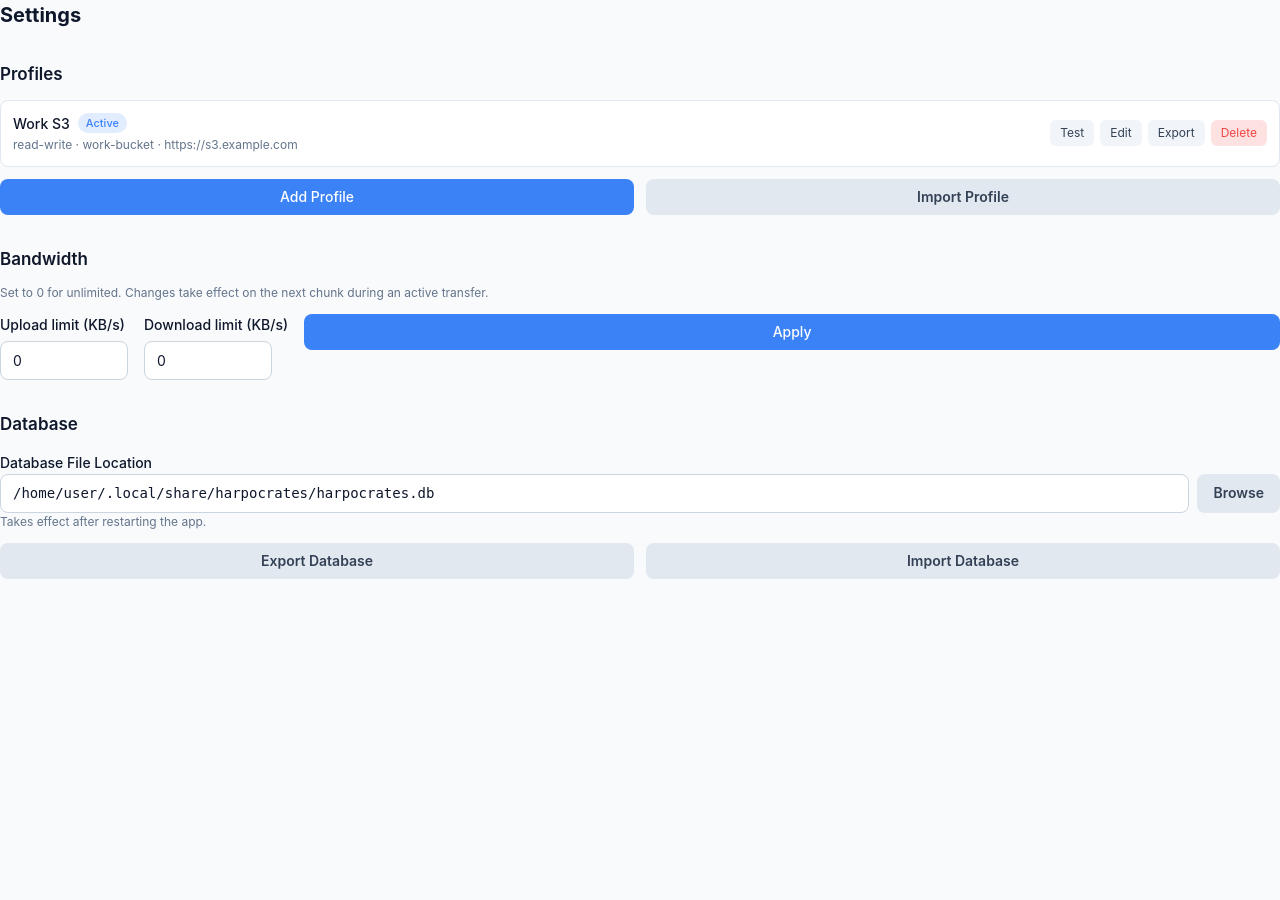
Test: Settings page — delete profile › clicking Delete opens the confirm modal
Expected: the text "Work S3" is shown, [13,114,70,132]
Click the button "Delete" at [1239, 133], box [1211,120,1267,146]
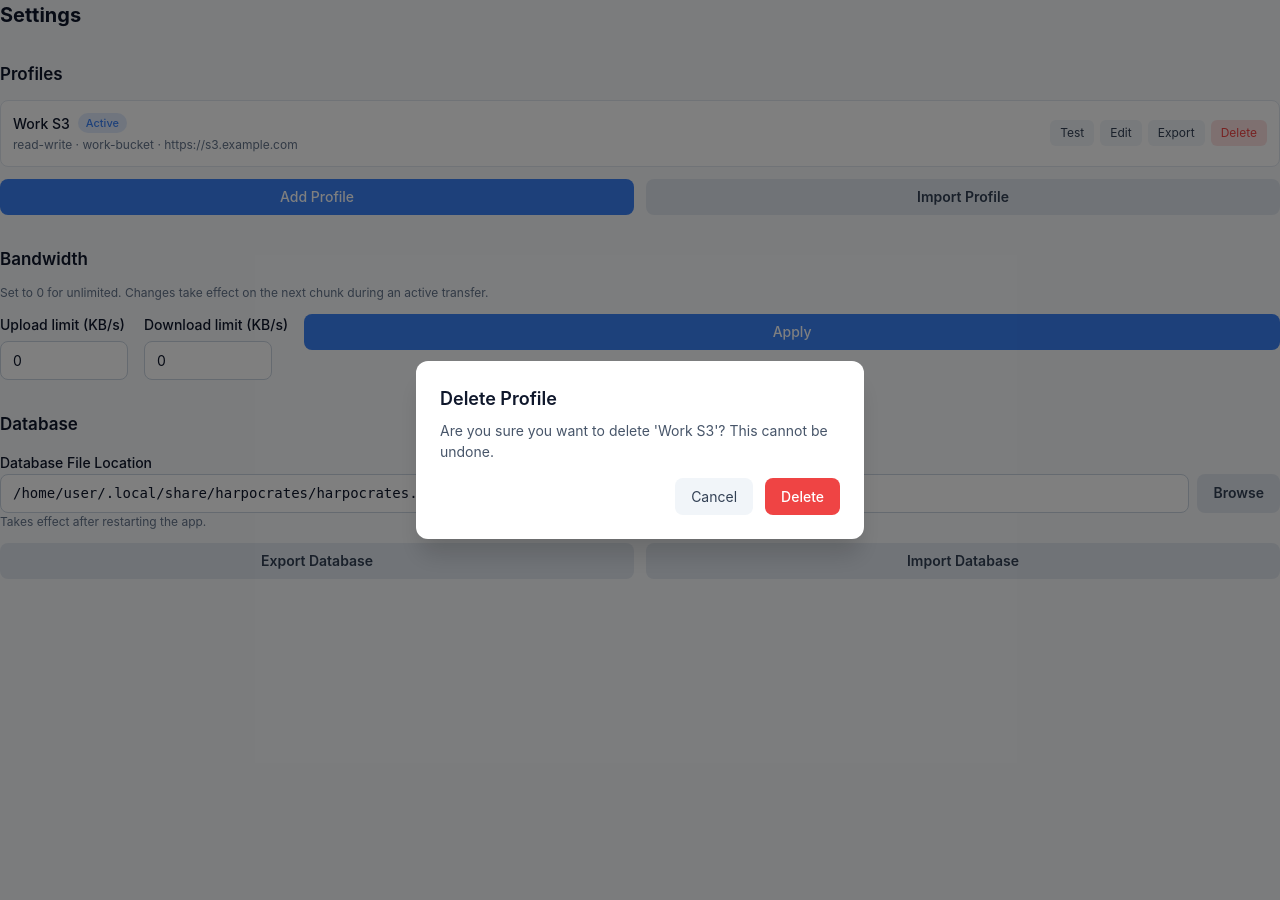
Expected: the dialog is shown, [416,361,864,539]
Expected: the heading "Delete Profile" is shown, [440,388,557,409]
